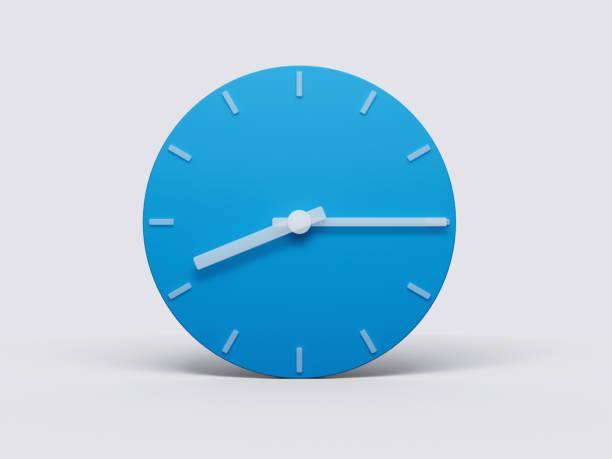clock: (142, 58, 457, 382)
